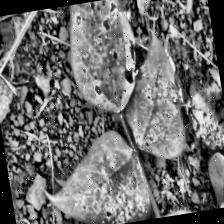ALS: (63, 0, 149, 118), (51, 127, 148, 224), (120, 28, 188, 162)
